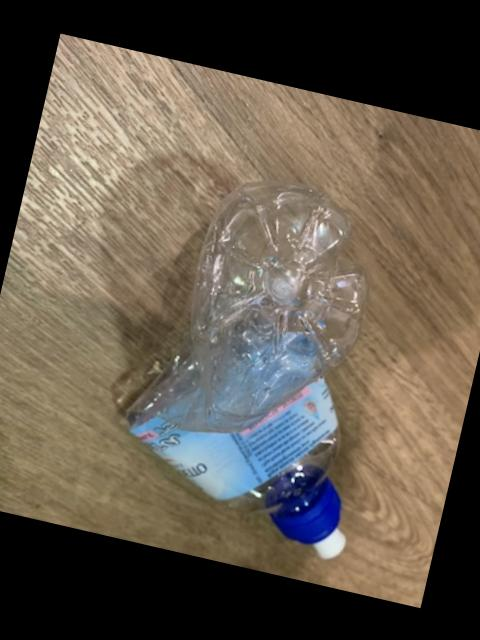plastic: (122, 177, 364, 560)
